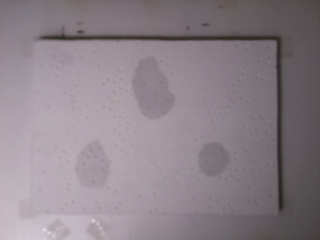Water_detected: (127, 70, 165, 111), (78, 148, 114, 178), (201, 148, 221, 169)
